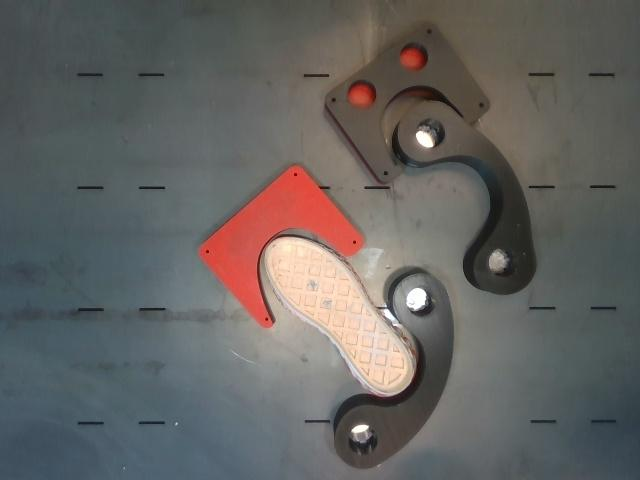shoes: (266, 238, 413, 394)
